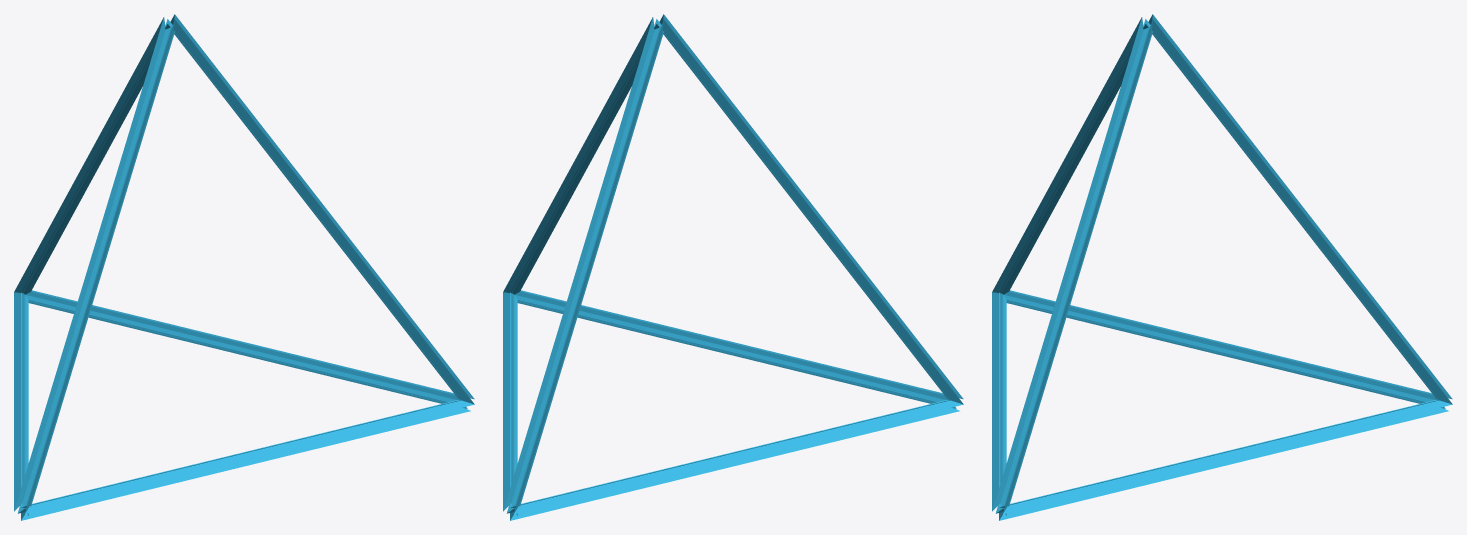
Rendered from Rusuk Limas Segitiga.fbx.
3 views of the same model, side by side, from view 1: azimuth 30°, elevation 25°; view 2: azimuth 150°, elevation 25°; view 3: azimuth 270°, elevation 25° (orthographic).
Visible parts, largest first — view 1: Cylinder.002, Cylinder.003, Cylinder.004, Cylinder.001; view 2: Cylinder.003, Cylinder.001, Cylinder.004, Cylinder.002; view 3: Cylinder.001, Cylinder.002, Cylinder.004, Cylinder.003.
Boxes of the visible parts, left/top/right/bottom form: Cylinder.002: left=17, top=19, right=474, bottom=514; Cylinder.003: left=14, top=17, right=177, bottom=515; Cylinder.004: left=21, top=290, right=470, bottom=520; Cylinder.001: left=20, top=14, right=474, bottom=408; Cylinder.003: left=506, top=19, right=963, bottom=514; Cylinder.001: left=503, top=17, right=666, bottom=515; Cylinder.004: left=510, top=290, right=959, bottom=520; Cylinder.002: left=509, top=14, right=963, bottom=408; Cylinder.001: left=995, top=19, right=1452, bottom=514; Cylinder.002: left=992, top=17, right=1155, bottom=515; Cylinder.004: left=999, top=290, right=1448, bottom=520; Cylinder.003: left=998, top=14, right=1452, bottom=408.
Bounding box in the file's own units: 177 × 145 × 154.
